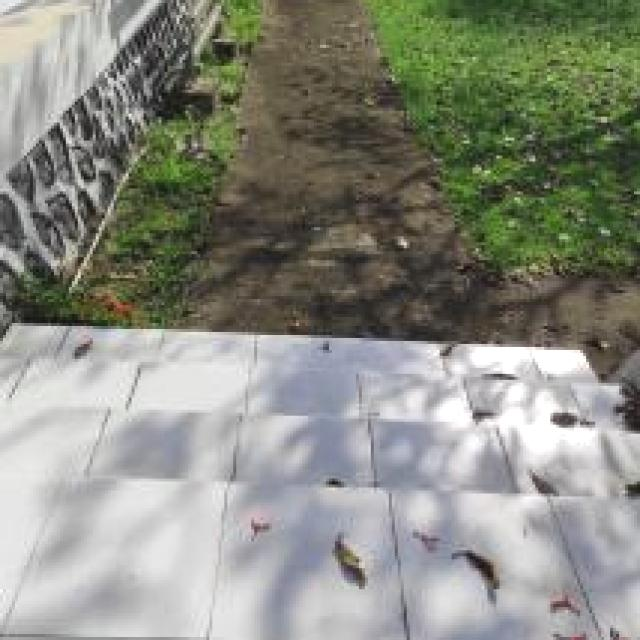downstair: (1, 312, 640, 581)
